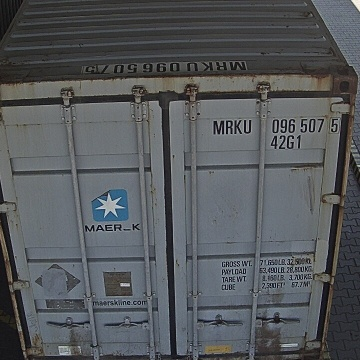serial_id: (213, 118, 340, 134)
